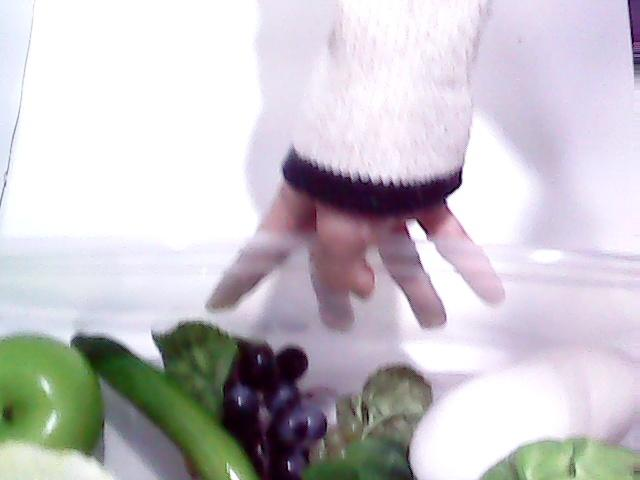apple: (1, 325, 107, 475)
grape: (229, 334, 325, 476)
napa cabbage: (0, 440, 116, 480)
pepper: (70, 324, 256, 480)
radish: (302, 343, 640, 480)
